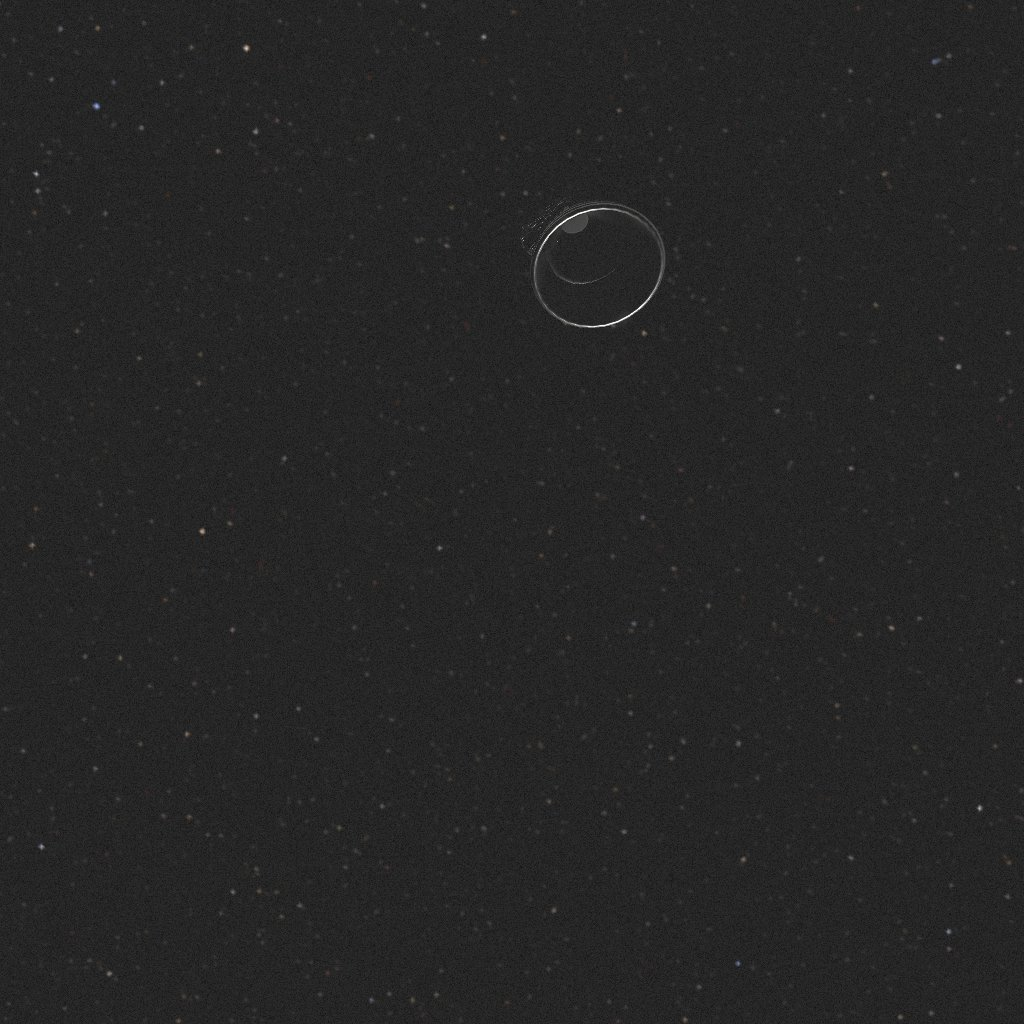debris: (520, 189, 665, 328)
